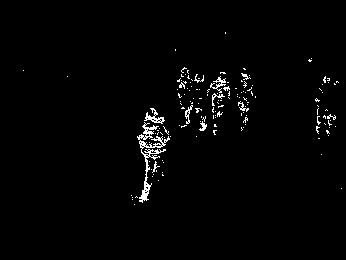person: (137, 108, 171, 203), (235, 67, 255, 133), (209, 71, 229, 135), (178, 65, 194, 127), (194, 73, 208, 132)
